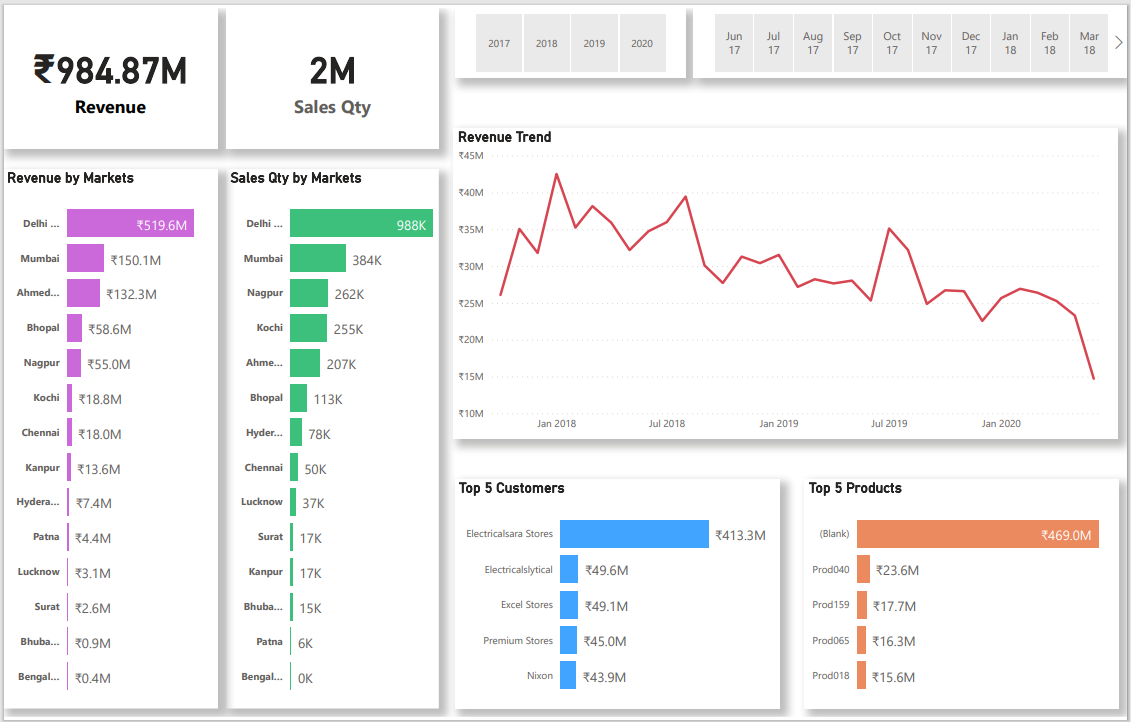

The page's visual inventory and layout, read from the dashboard file:
{"tool":"powerbi","page":{"name":"Key Insights","canvas":[1350,850],"ordinal":0},"visuals":[{"type":"card","fields":{"Values":["BaseMeasures (2).Revenue"]},"box":[0,0,257.8,168],"z":0},{"type":"card","fields":{"Values":["BaseMeasures (2).Sales Qty"]},"box":[268,0,254.9,168],"z":1000},{"type":"barChart","title":"Revenue by Markets","fields":{"Y":["BaseMeasures (2).Revenue"],"Category":["sales markets.markets_name"]},"box":[0,192.7,257.8,647.5],"z":2000},{"type":"barChart","title":"Sales Qty by Markets","fields":{"Y":["BaseMeasures (2).Sales Qty"],"Category":["sales markets.markets_name"]},"box":[268,192.7,254.9,647.5],"z":3000},{"type":"slicer","fields":{"Values":["sales date.year"]},"box":[541.7,0,276.7,82.6],"z":4000},{"type":"slicer","fields":{"Values":["sales date.cy_date"]},"box":[828.5,0,521.5,82.6],"z":5000},{"type":"barChart","title":"Top 5 Customers","fields":{"Y":["BaseMeasures (2).Revenue"],"Category":["sales customers.custmer_name"]},"box":[541.7,564.9,389.6,275.2],"z":6000},{"type":"barChart","title":"Top 5 Products","fields":{"Y":["BaseMeasures (2).Revenue"],"Category":["sales products.product_code"]},"box":[961.8,564.9,376.6,275.2],"z":7000},{"type":"lineChart","title":"Revenue Trend","fields":{"Y":["BaseMeasures (2).Revenue"],"Category":["sales date.cy_date"]},"box":[541.2,144.3,796.6,372.3],"z":8000}]}

Visuals, with their boxes in screenshot pixels (x1, y1, x2, y2), scaled from the page's 1350x850 canvas onto the 1131x722 screenshot:
card - BaseMeasures (2).Revenue: (x1=0, y1=0, x2=216, y2=143)
card - BaseMeasures (2).Sales Qty: (x1=225, y1=0, x2=438, y2=143)
"Revenue by Markets" barChart: (x1=0, y1=164, x2=216, y2=714)
"Sales Qty by Markets" barChart: (x1=225, y1=164, x2=438, y2=714)
slicer - sales date.year: (x1=454, y1=0, x2=686, y2=70)
slicer - sales date.cy_date: (x1=694, y1=0, x2=1130, y2=70)
"Top 5 Customers" barChart: (x1=454, y1=480, x2=780, y2=714)
"Top 5 Products" barChart: (x1=806, y1=480, x2=1121, y2=714)
"Revenue Trend" lineChart: (x1=453, y1=123, x2=1121, y2=439)
